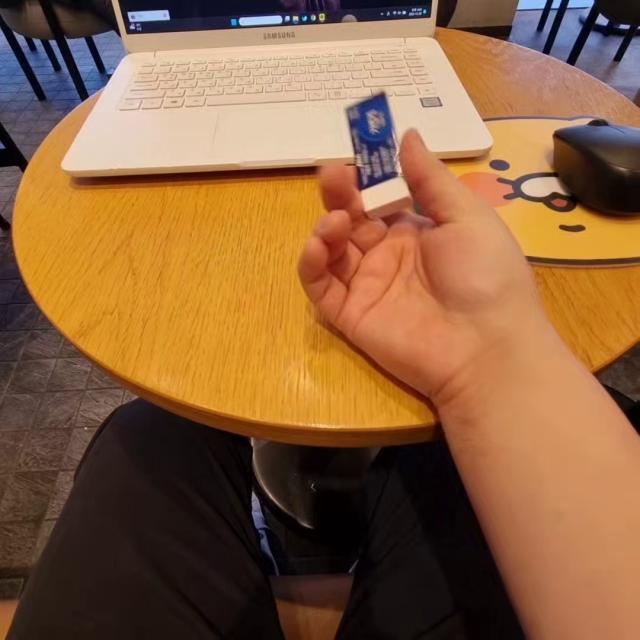eraser: (331, 78, 407, 214)
grab_eraser: (295, 88, 545, 423)
hand: (313, 163, 517, 394)
mouse: (548, 111, 640, 229)
